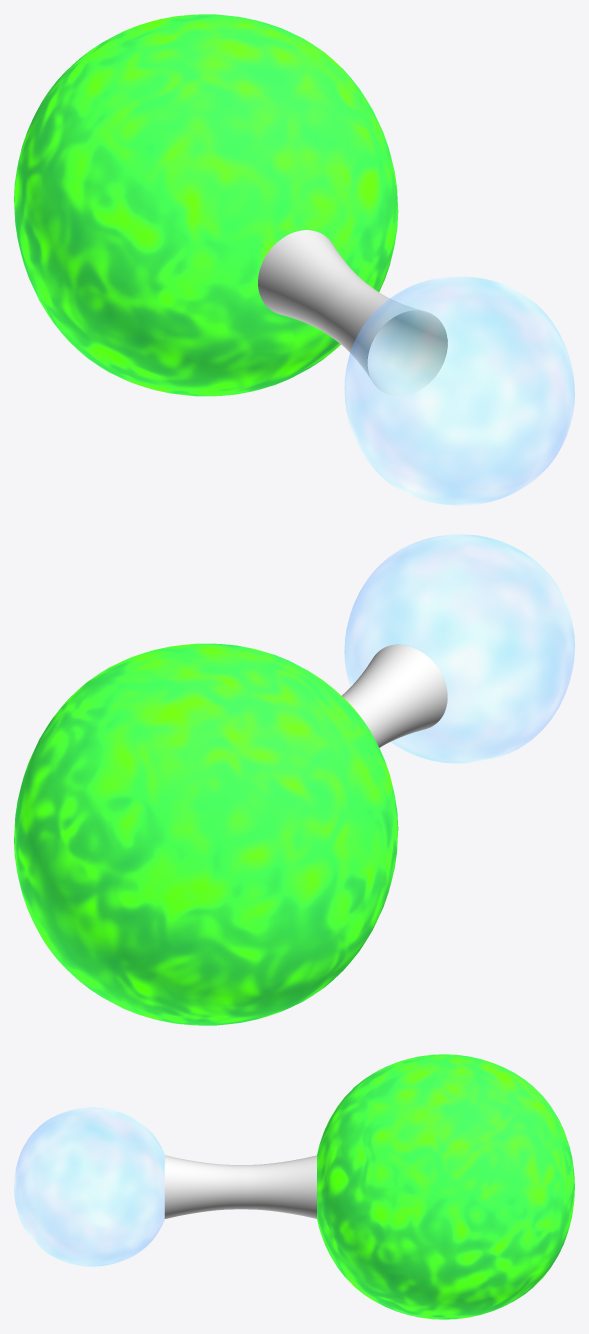
The model's file is HCl.glb.
The picture shows the model from 3 angles, top to bottom: view 1: azimuth 30°, elevation 25°; view 2: azimuth 150°, elevation 25°; view 3: azimuth 270°, elevation 25°; orthographic projection. The views are drawn at different scales.
Parts seen in each view (by area): view 1: jednosytne_kyseliny; view 2: jednosytne_kyseliny; view 3: jednosytne_kyseliny.
Part boxes in pixels (<box>): jednosytne_kyseliny: <box>14,14,574,505</box>; jednosytne_kyseliny: <box>14,534,574,1025</box>; jednosytne_kyseliny: <box>14,1054,574,1319</box>.
Bounding box in the file's own units: 2.02 × 2.02 × 4.33.
3 materials, 2 textured.
